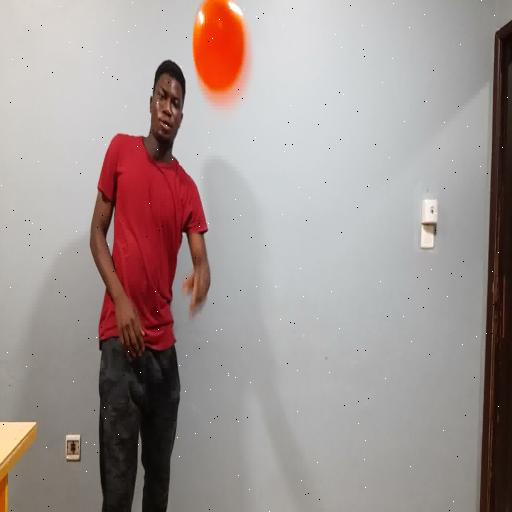plastic-ball: (190, 0, 255, 114)
